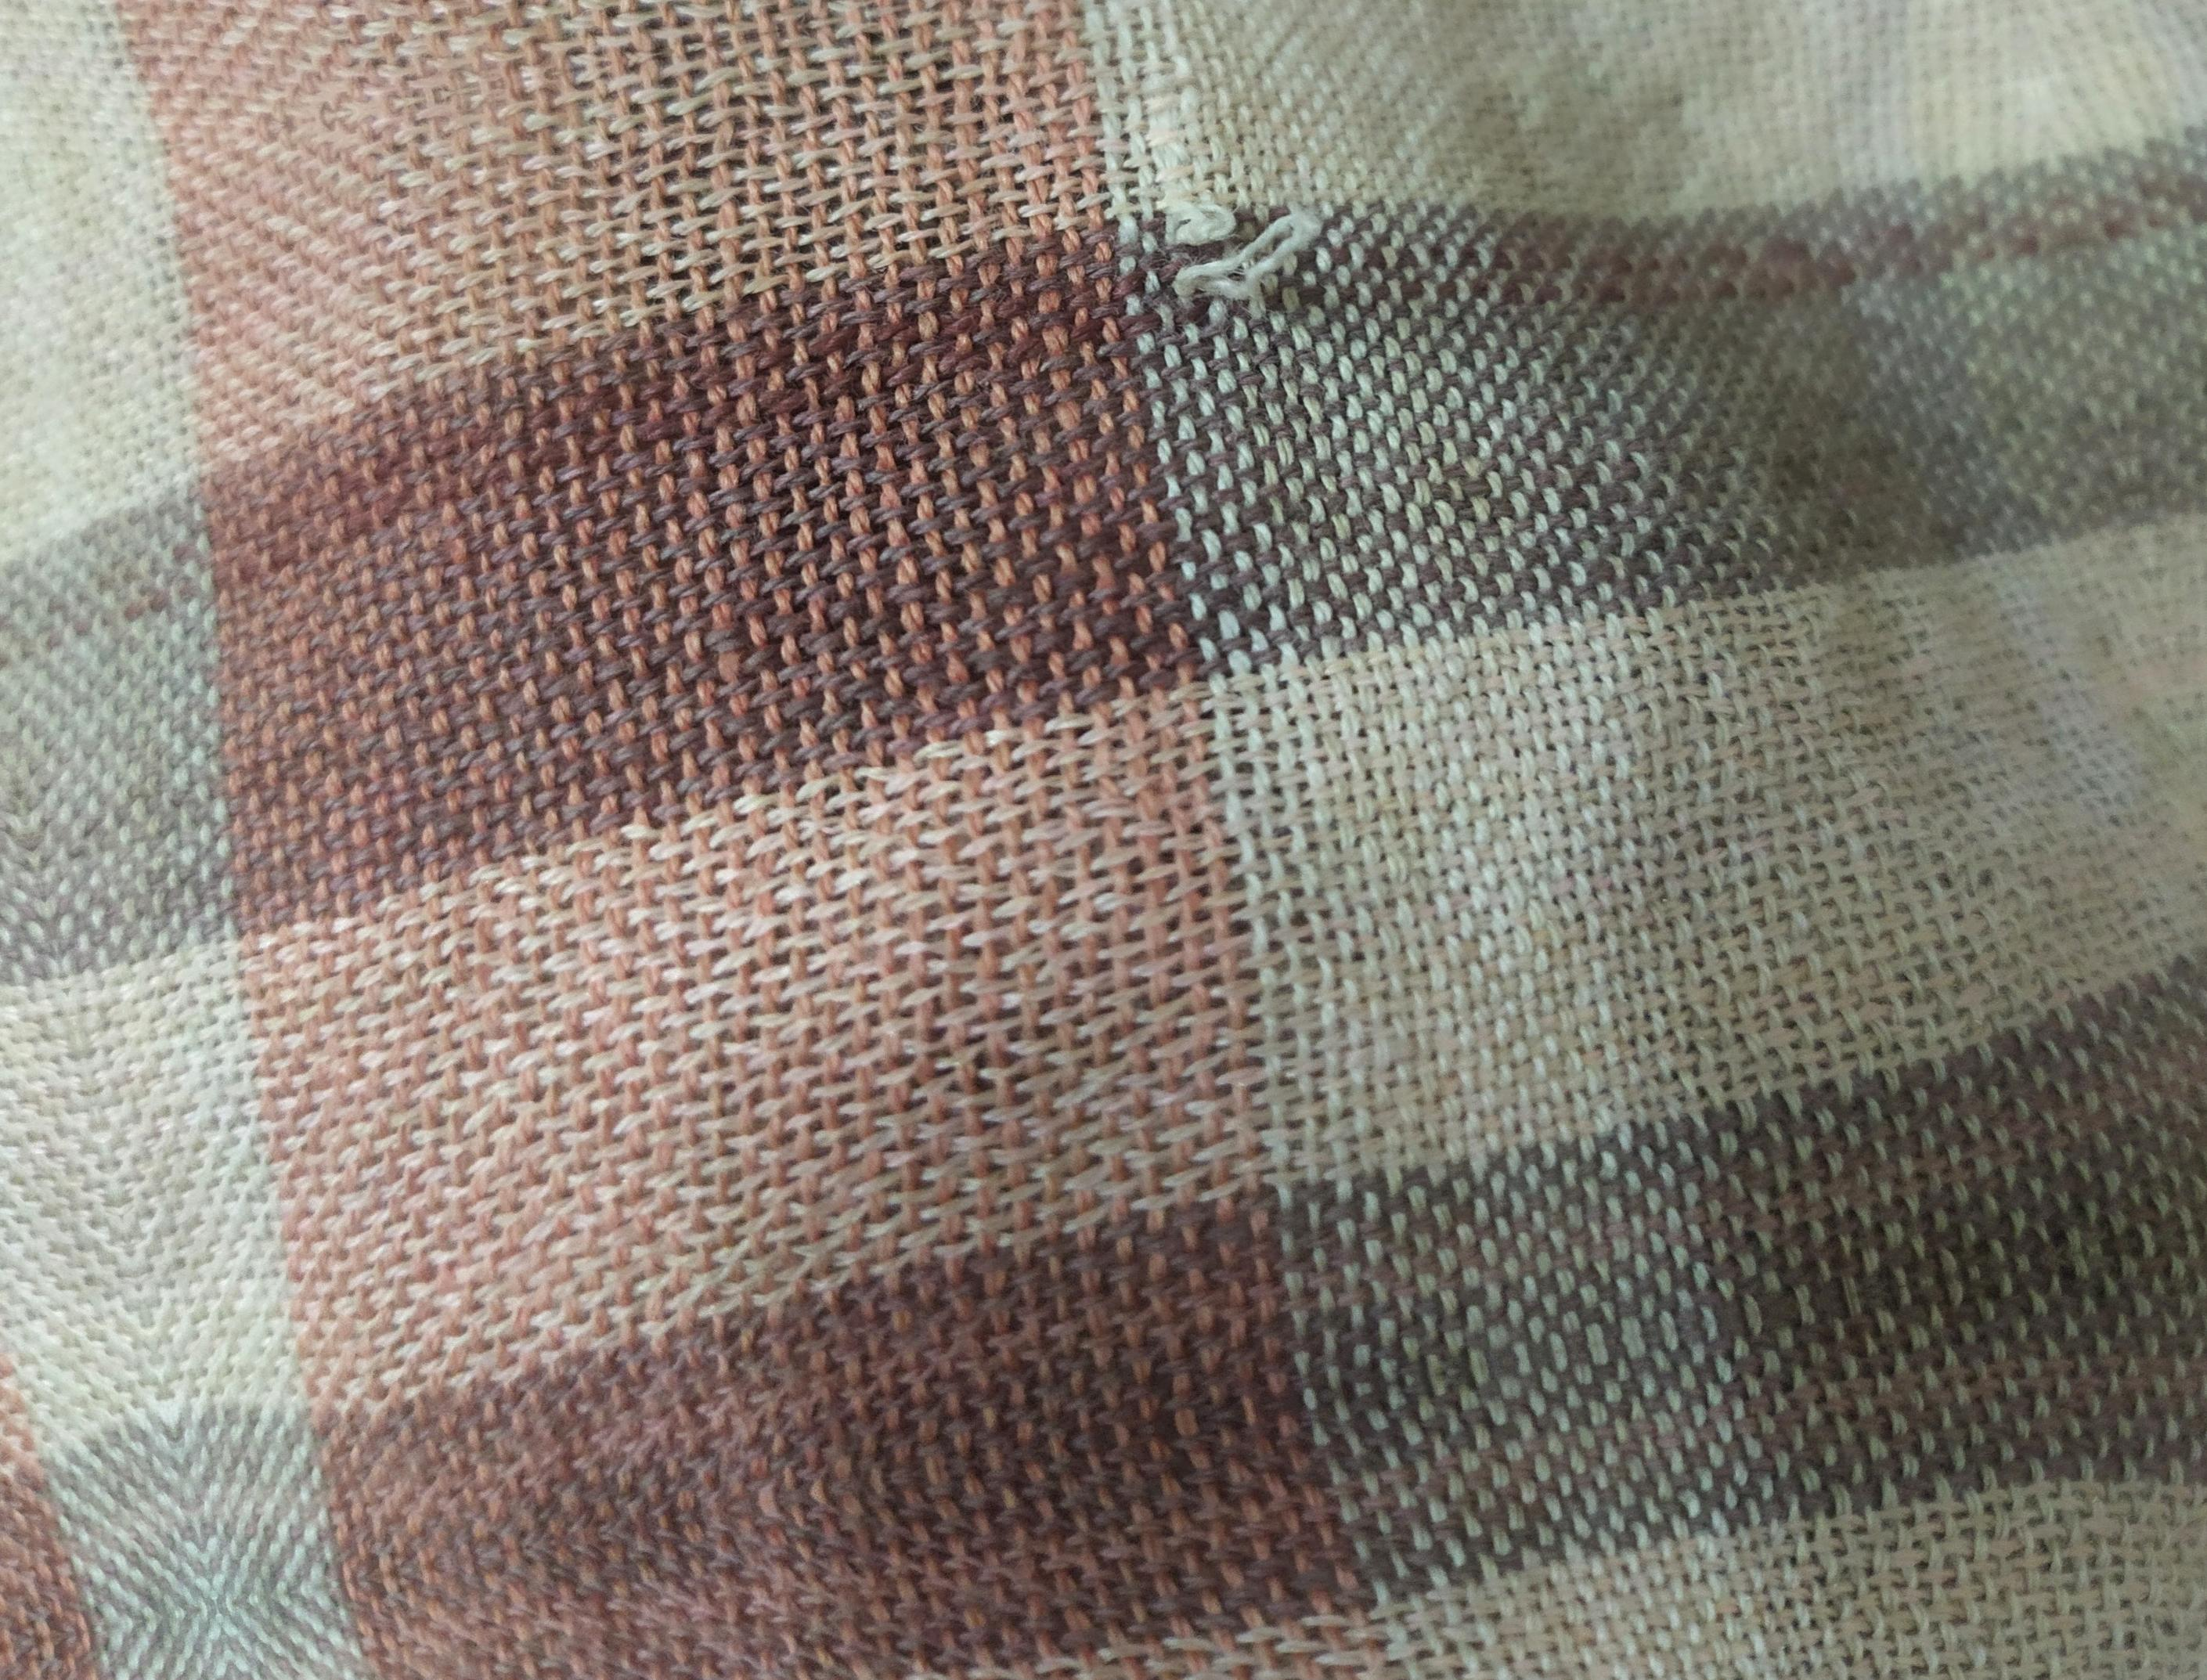snag: (1156, 154, 1348, 326)
